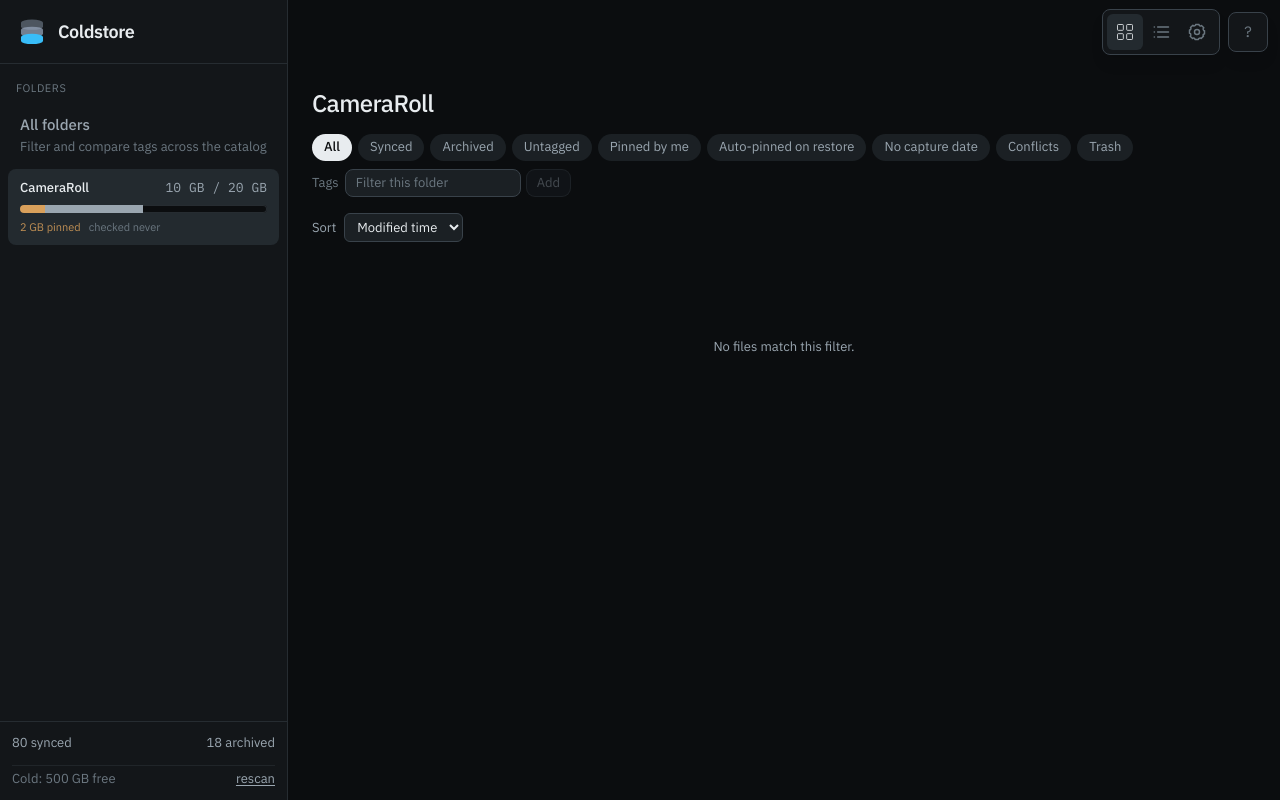
App › should brand the sidebar with the favicon and offer shortcut help from the toolbar
This screenshot has width=1280, height=800.
Check: the heading "CameraRoll" is shown, box [312,87,433,119]
Click the button named "Keyboard shortcuts". click: (1248, 32)
box: [1228,12,1268,52]
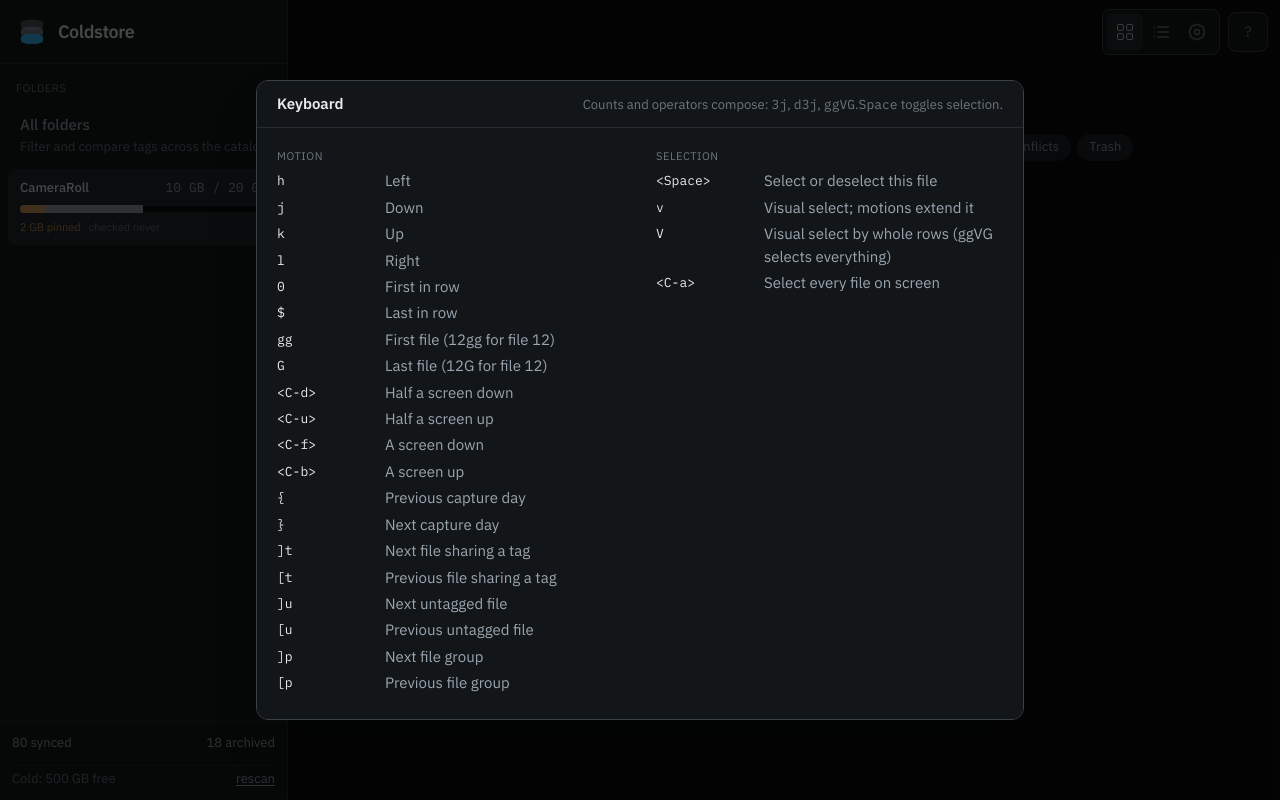
Check: the dialog named "Keyboard shortcuts" is shown, box [256,80,1024,720]
